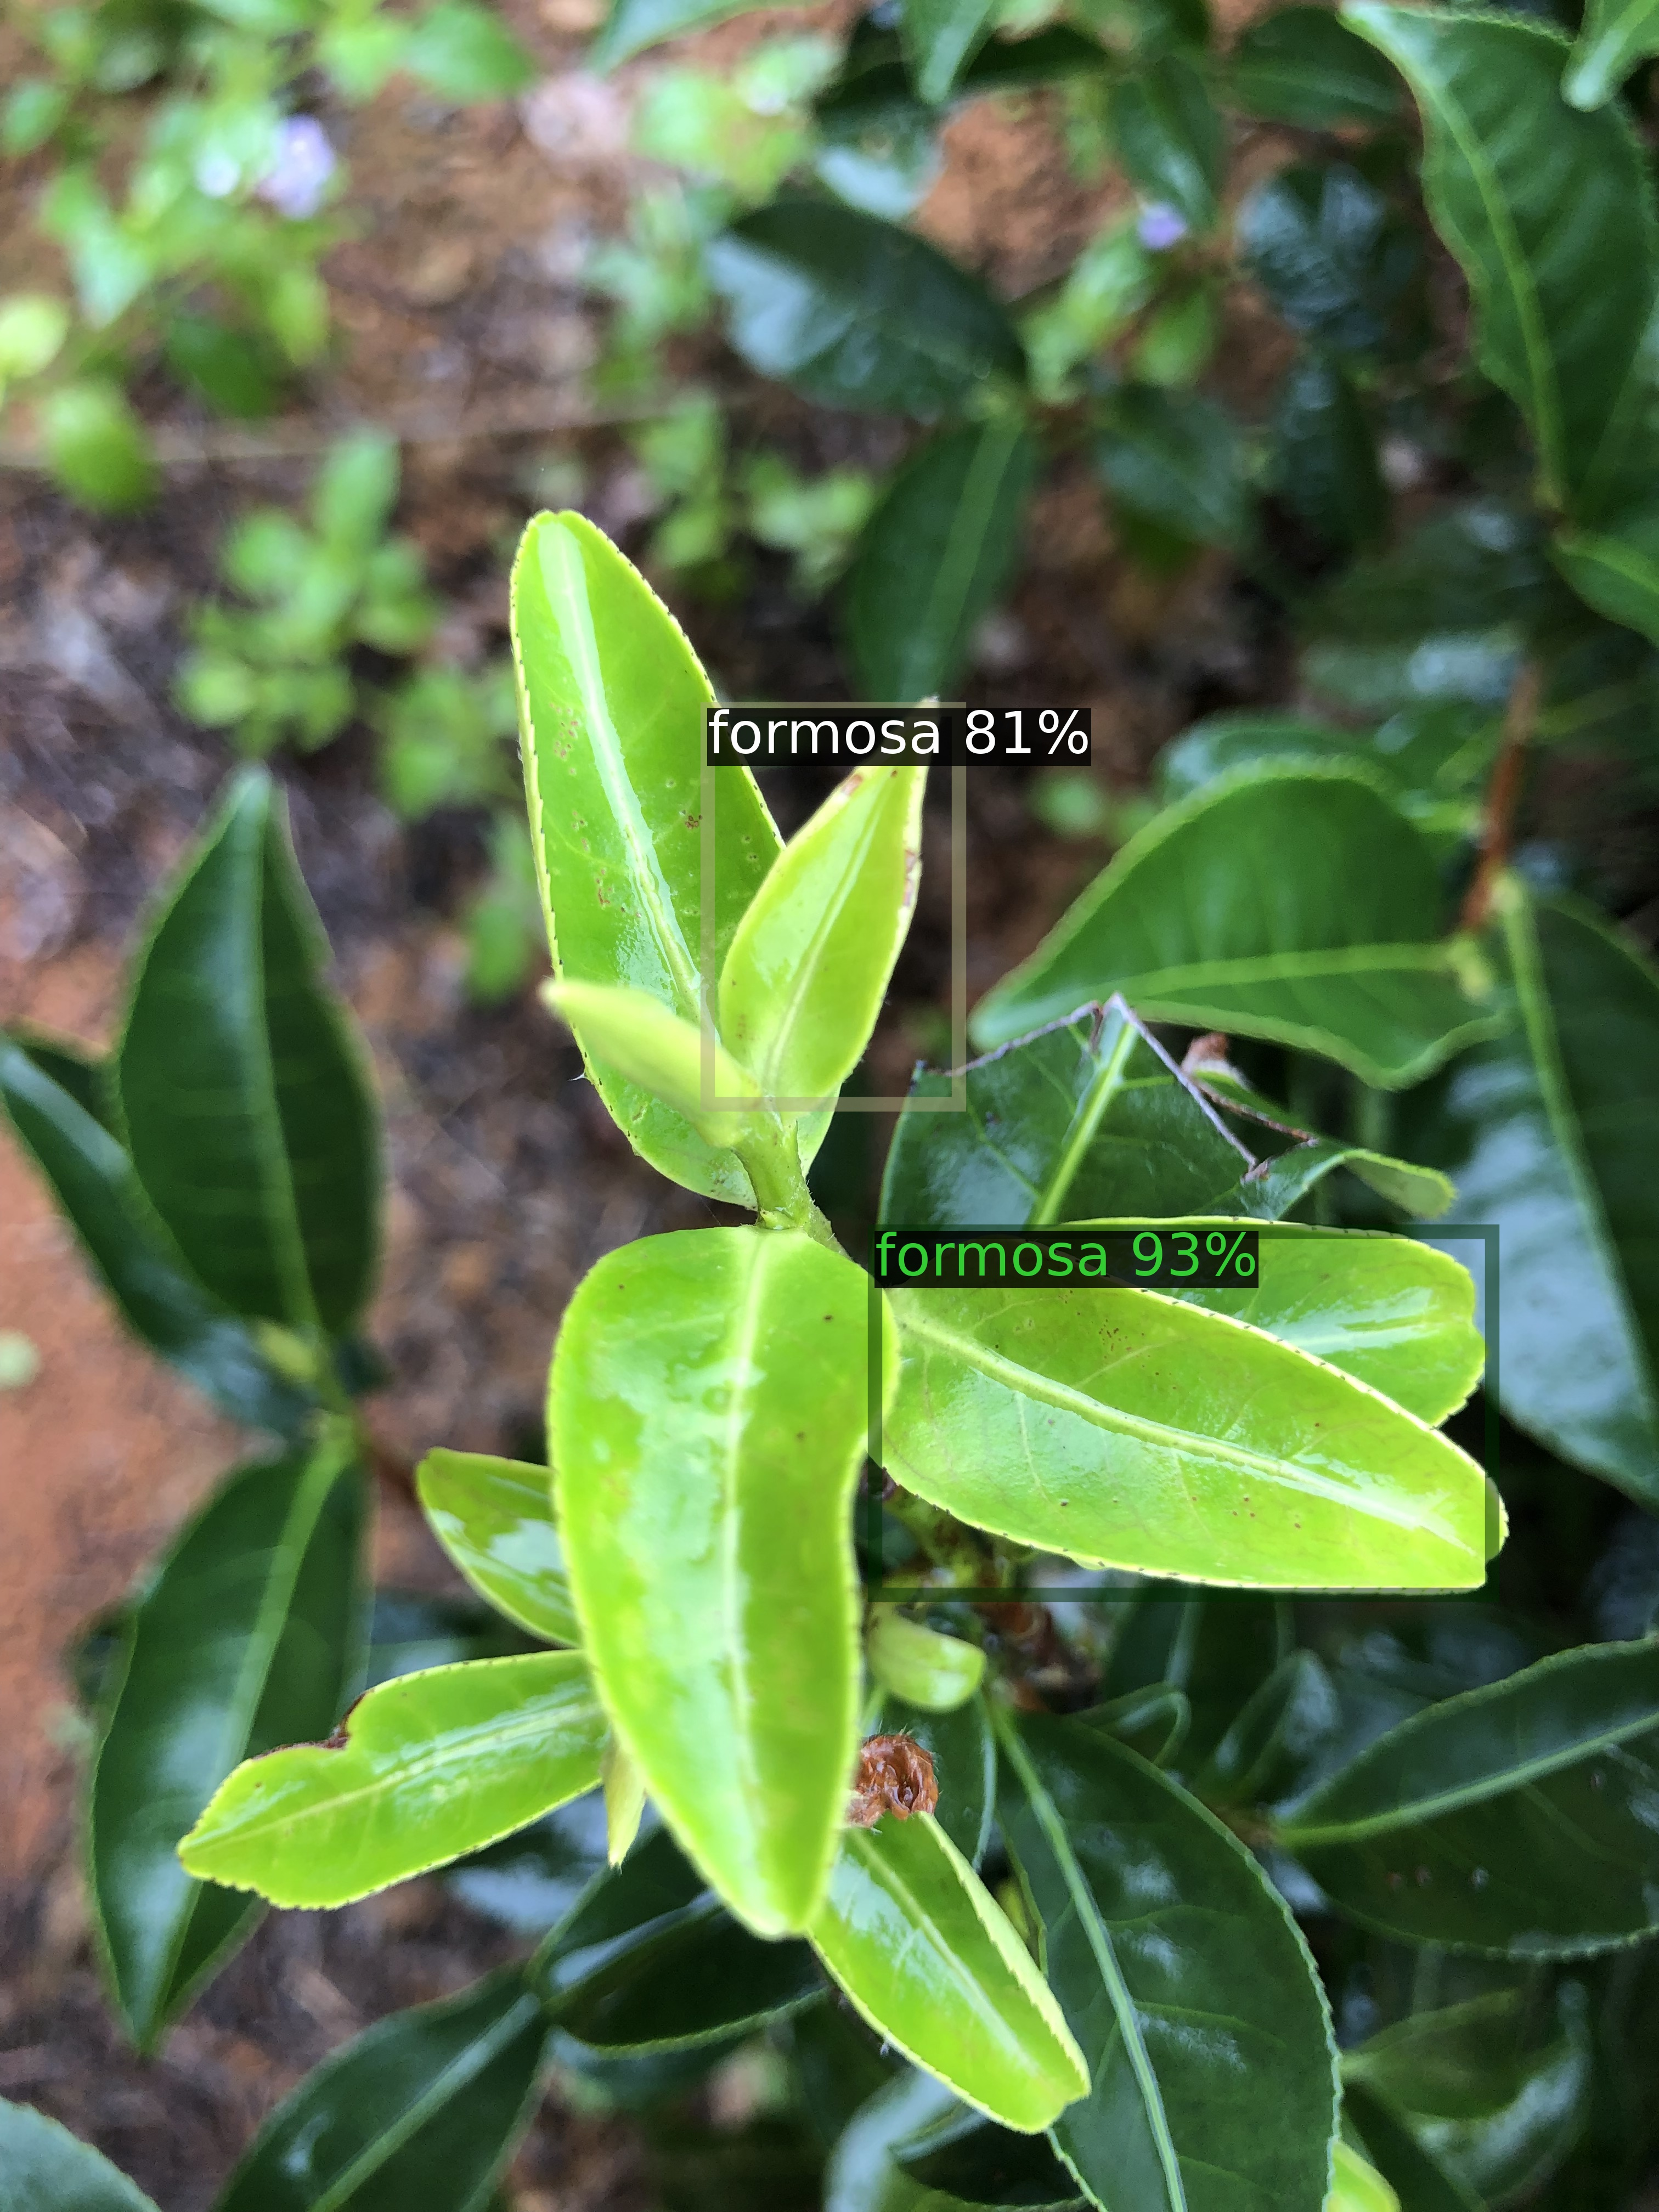formosa: (875, 1231, 1492, 1595), (708, 709, 958, 1104)
